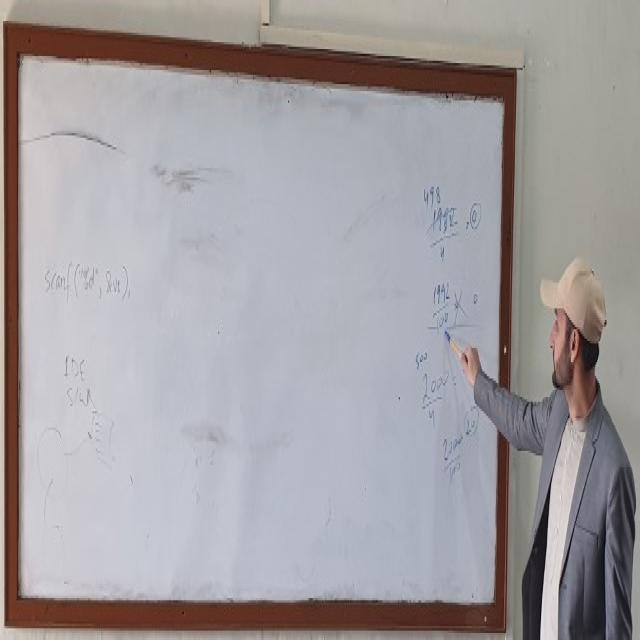Instructor: (518, 245, 628, 640)
White-board: (10, 34, 509, 619)
